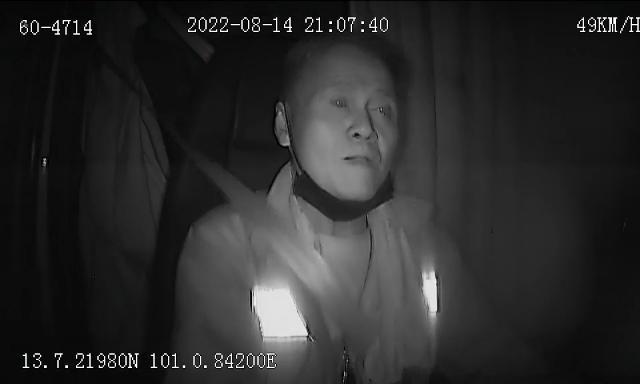SafeDriving: (366, 93, 396, 124), (325, 88, 355, 118)
Seatbelt: (198, 154, 378, 364)
